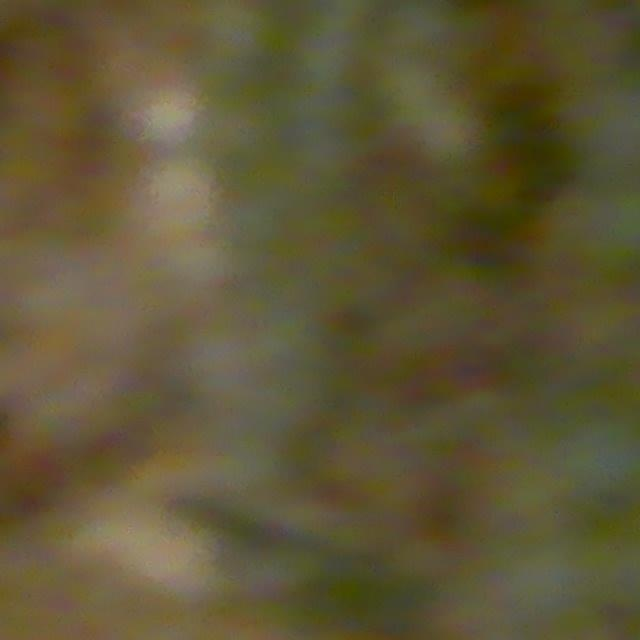SeaGrape: (565, 201, 640, 294)
